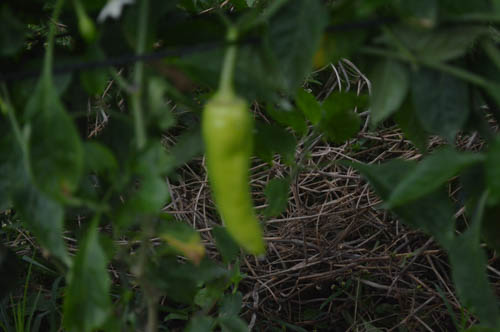ChiliPepper: (207, 103, 269, 253)
